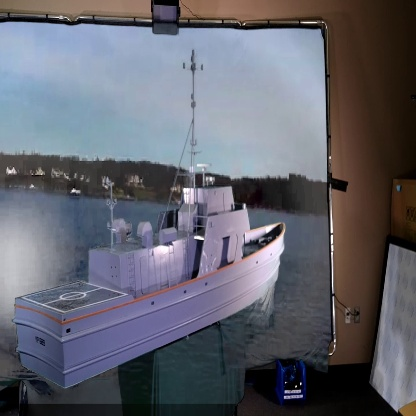YP689: (13, 51, 286, 390)
